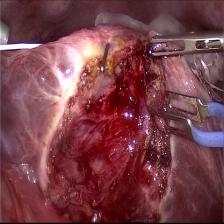Bipolar: (154, 85, 223, 157)
Grasper: (149, 31, 224, 61)
Specimen Bag: (91, 2, 223, 82)
